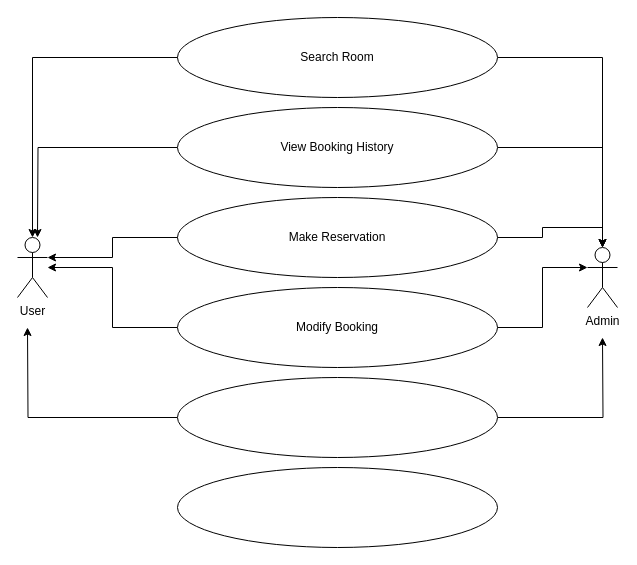
Image size: 637x565. Some labels were removed from this diagram. Here are the shapes that lost their labels. From the top down, the box of each, then its label:
(176, 376, 498, 458): Cancel Booking
(176, 466, 498, 548): Manage Listings
